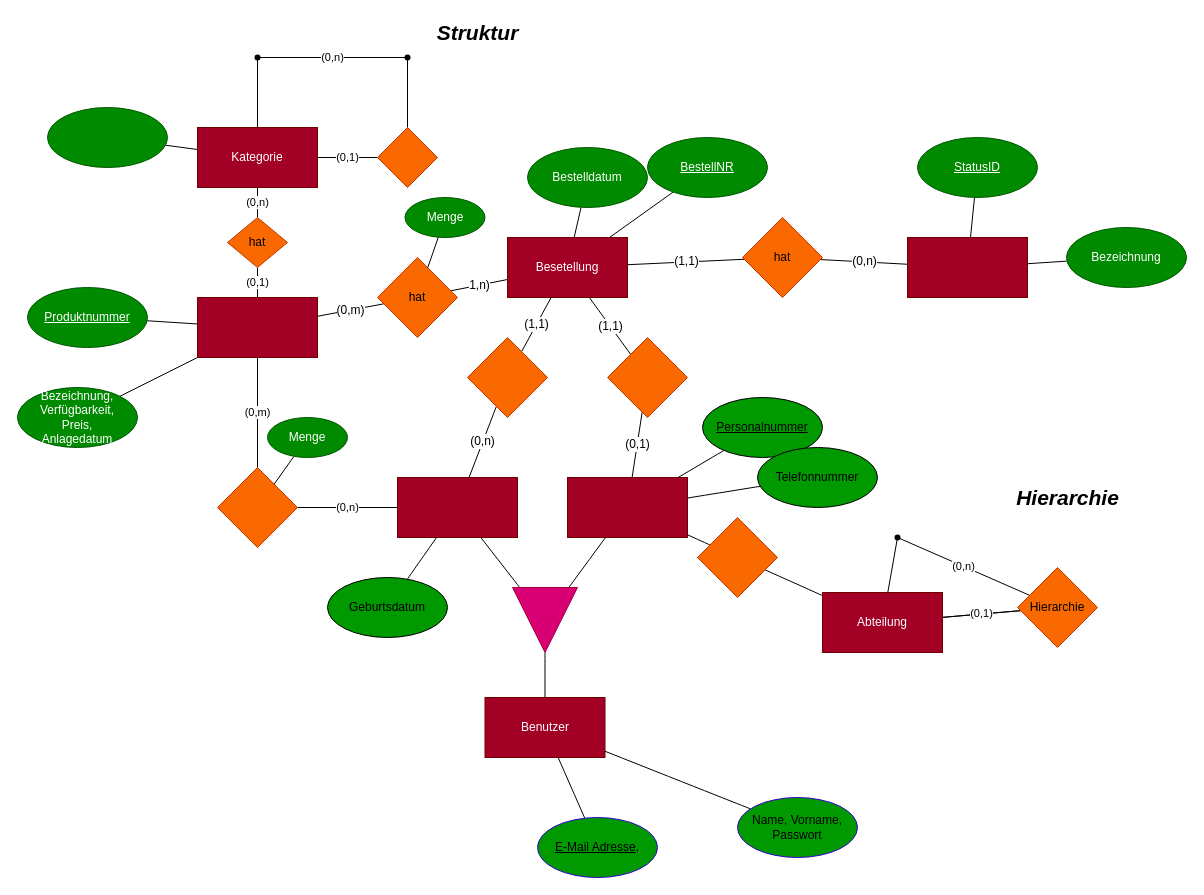
The diagram is 1204 pixels wide and 895 high, and some of its shapes have lost their labels. Here are the shapes that lost their labels. From the top down, the centre of each, then its label:
At point (107, 137): "KategorieID".
At point (407, 157): "zusammen-gekauft".
At point (967, 267): "Status".
At point (257, 327): "Produkte".
At point (507, 377): "bestellt".
At point (647, 377): "bearbeitet".
At point (257, 507): "Warenkorb".
At point (457, 507): "Kunden".
At point (627, 507): "Mitarbeiter".
At point (737, 557): "gehört-zu".
At point (545, 619): "N,T".
